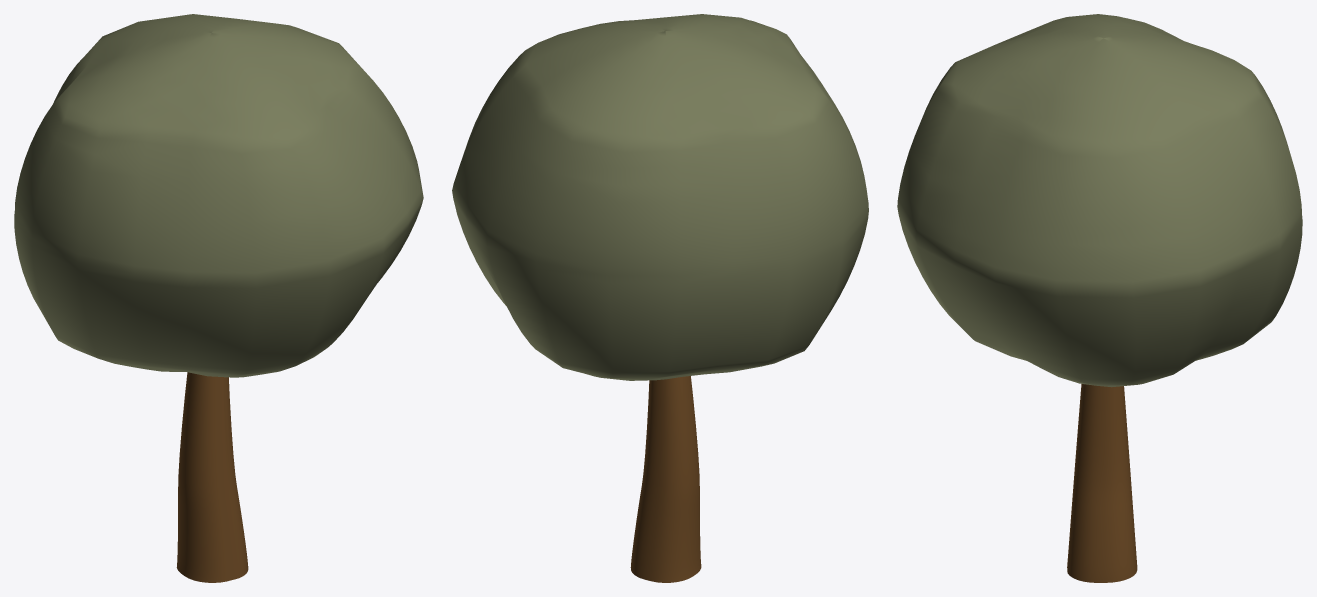
The model's file is OriginalTree.glb.
3 renders of one model, left to right at view 1: azimuth 30°, elevation 25°; view 2: azimuth 150°, elevation 25°; view 3: azimuth 270°, elevation 25°, orthographic.
Parts seen in each view (by area): view 1: Lofted Patch, Extrusion Spline; view 2: Lofted Patch, Extrusion Spline; view 3: Lofted Patch, Extrusion Spline.
Part boxes in pixels (left/top/right/bottom): Lofted Patch: left=14, top=14, right=423, bottom=377; Extrusion Spline: left=176, top=372, right=248, bottom=582; Lofted Patch: left=452, top=14, right=868, bottom=380; Extrusion Spline: left=630, top=376, right=701, bottom=582; Lofted Patch: left=897, top=14, right=1302, bottom=387; Extrusion Spline: left=1067, top=384, right=1137, bottom=582.
Size of the model in its own units: 2.25 by 3.15 by 2.18.
